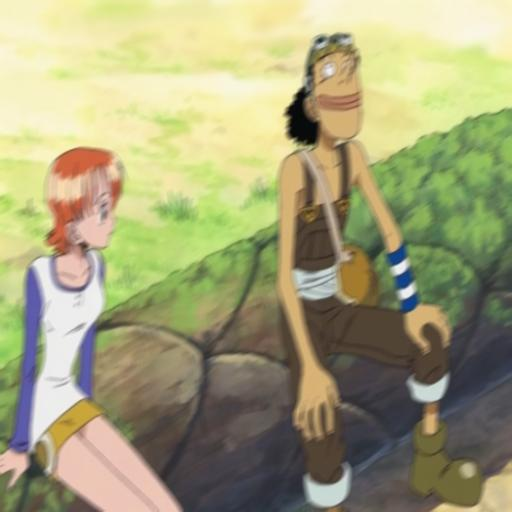Nami: (2, 131, 188, 512)
Usopp: (266, 13, 492, 512)
